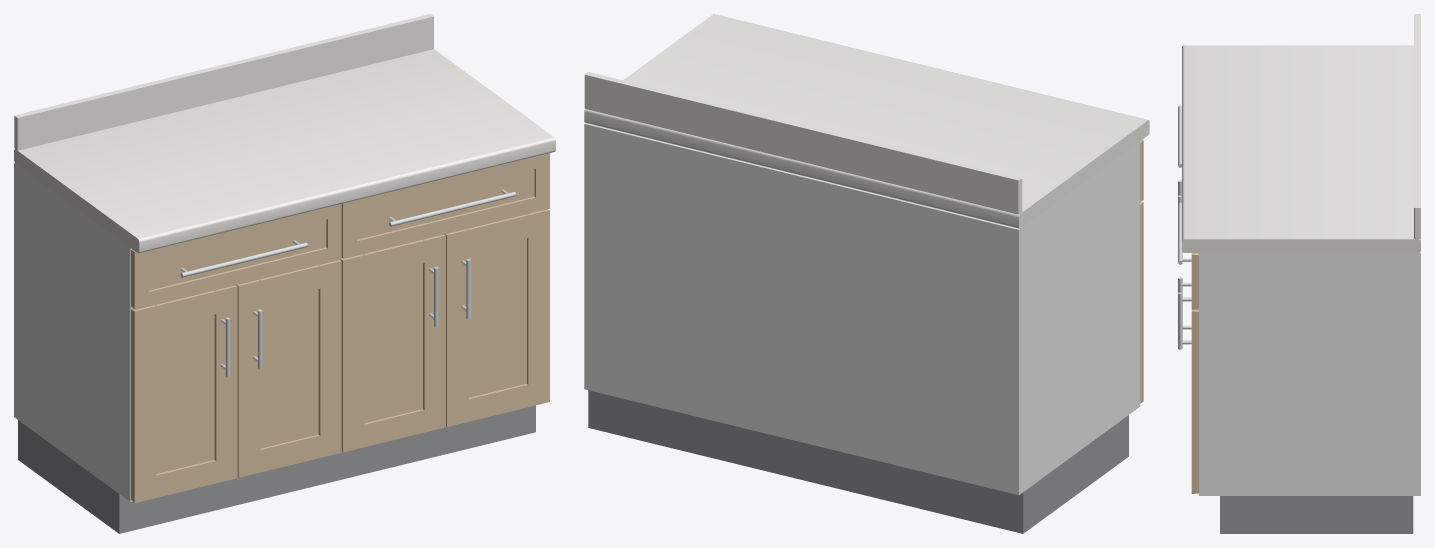
3 views of the same model, side by side, from view 1: azimuth 30°, elevation 25°; view 2: azimuth 150°, elevation 25°; view 3: azimuth 270°, elevation 25° (orthographic). The views are drawn at different scales.
Parts seen in each view (by area): view 1: Tủ bếp dưới Dài=1200; Sâu=580; view 2: Tủ bếp dưới Dài=1200; Sâu=580; view 3: Tủ bếp dưới Dài=1200; Sâu=580.
Boxes of the visible parts, box(x1,y1,x2,y2) form: Tủ bếp dưới Dài=1200; Sâu=580: box(14, 14, 555, 533); Tủ bếp dưới Dài=1200; Sâu=580: box(584, 14, 1149, 533); Tủ bếp dưới Dài=1200; Sâu=580: box(1178, 14, 1420, 533).
Size of the model in its own units: 1.2 by 0.94 by 0.635.
